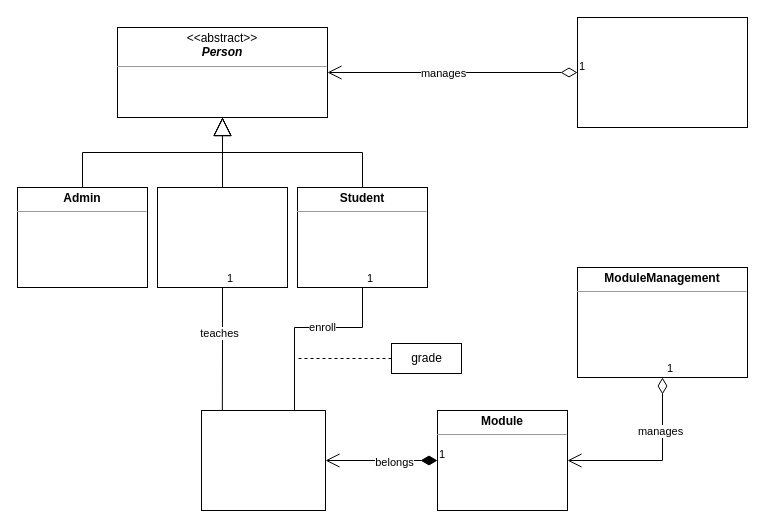
This 765x528 diagram has some shape labels left out. Here are the shapes that lost their labels. From the top down, the centre of each, then its label:
At point 662,72: "UserManagement".
At point 222,237: "Teacher".
At point 263,460: "ModuleRun".
